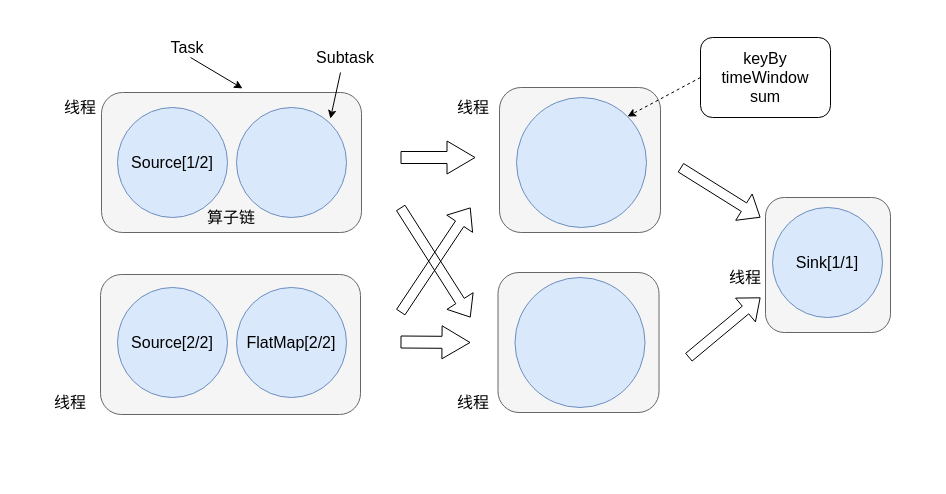
Some shapes in this 946 by 494 pixel diagram are drawn without their labels. Here are the shapes that lost their labels. From the top down, the centre of each, then its label:
[291,162]: FlatMap[1/2]
[581,162]: Window Aggregation [1/2]
[579,342]: Window Aggregation [2/2]
